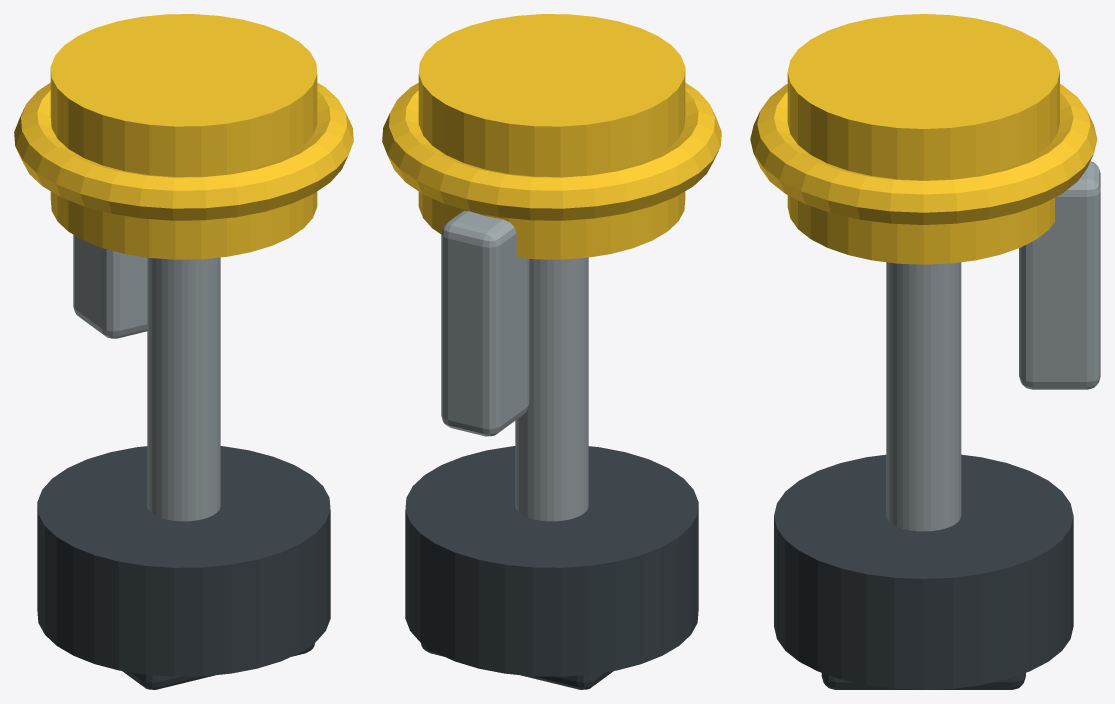
The model's file is beacon_variant_d.glb.
3 views of the same model, side by side, from view 1: azimuth 30°, elevation 25°; view 2: azimuth 150°, elevation 25°; view 3: azimuth 270°, elevation 25° (orthographic).
Parts seen in each view (by area): view 1: Beacon base, Beacon lamp, Beacon mast, Lamp guard, Modular attachment rail, Mounting magnet; view 2: Beacon base, Beacon lamp, Modular attachment rail, Lamp guard, Beacon mast, Mounting magnet; view 3: Beacon base, Beacon lamp, Beacon mast, Lamp guard, Modular attachment rail, Mounting magnet.
Part boxes in pixels (x1,y1,x2,y2): Beacon base: [37, 446, 330, 676]; Beacon lamp: [50, 14, 317, 259]; Beacon mast: [147, 257, 220, 521]; Lamp guard: [14, 82, 353, 220]; Modular attachment rail: [73, 235, 147, 338]; Mounting magnet: [122, 643, 314, 689]; Beacon base: [405, 446, 698, 676]; Beacon lamp: [418, 14, 685, 259]; Modular attachment rail: [441, 211, 529, 436]; Lamp guard: [382, 82, 721, 220]; Beacon mast: [515, 257, 588, 521]; Mounting magnet: [421, 643, 613, 689]; Beacon base: [774, 454, 1073, 689]; Beacon lamp: [787, 14, 1059, 264]; Beacon mast: [886, 262, 961, 531]; Lamp guard: [750, 84, 1097, 224]; Modular attachment rail: [1019, 161, 1100, 389]; Mounting magnet: [821, 673, 1025, 689].
Size of what is drawn, in the model's own units: 0.51 by 0.94 by 0.515.
